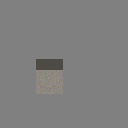supply_truck: (36, 59, 63, 94)
